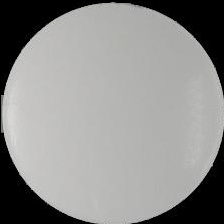61786-746: (0, 0, 224, 224)
